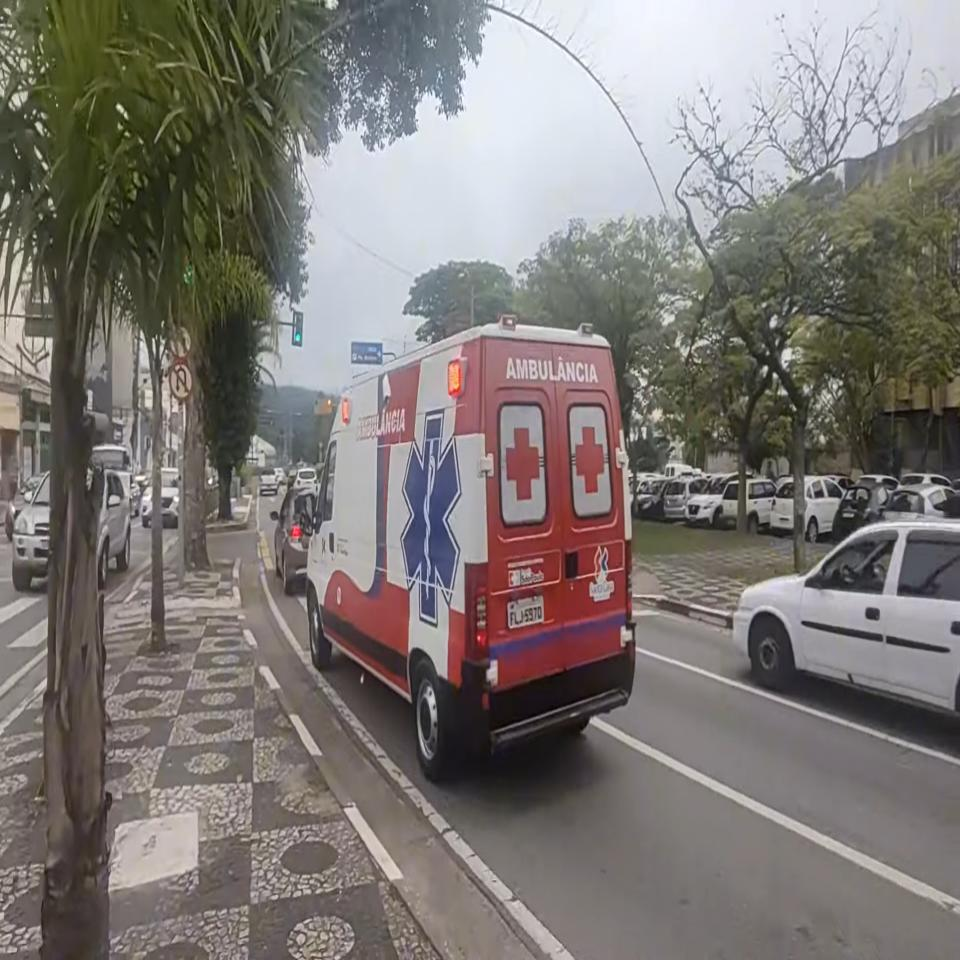bombeiro: (299, 314, 637, 778)
